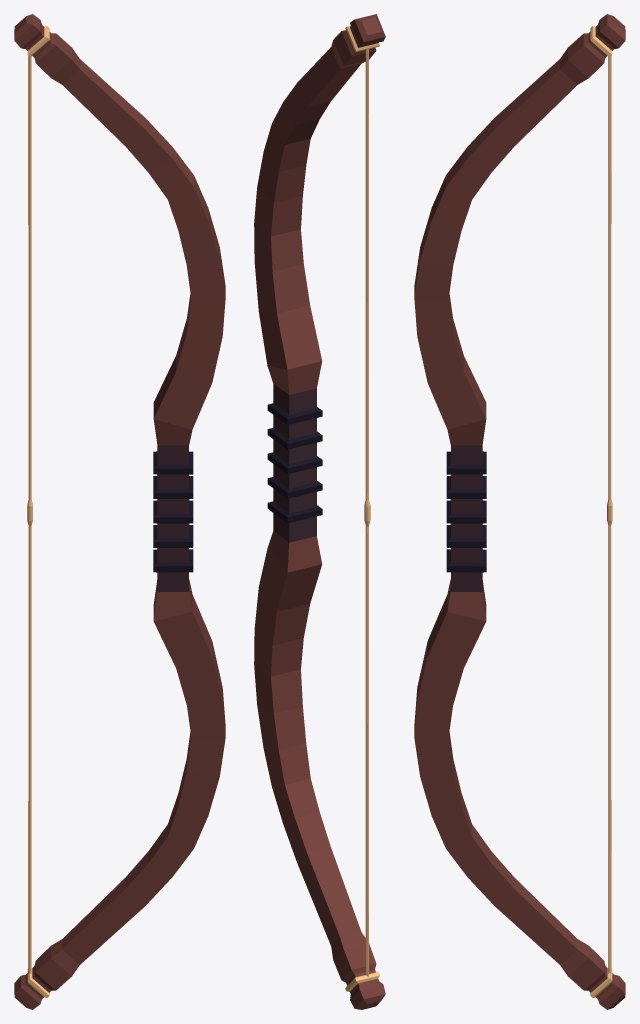
File: Bow 02.fbx
3 views of the same model, side by side, from view 1: azimuth 90°, elevation 25°; view 2: azimuth 210°, elevation 25°; view 3: azimuth 270°, elevation 25° (orthographic).
Visible parts, largest first — view 1: Bow 02, Bow 02 String; view 2: Bow 02, Bow 02 String; view 3: Bow 02, Bow 02 String.
Boxes of the visible parts, bbox=[...] form: Bow 02: bbox=[14, 14, 225, 1009]; Bow 02 String: bbox=[27, 26, 49, 997]; Bow 02: bbox=[254, 14, 385, 1009]; Bow 02 String: bbox=[345, 25, 379, 991]; Bow 02: bbox=[414, 14, 625, 1009]; Bow 02 String: bbox=[590, 26, 612, 997].
Size of the model in its own units: 4.82 by 127 by 24.64.
